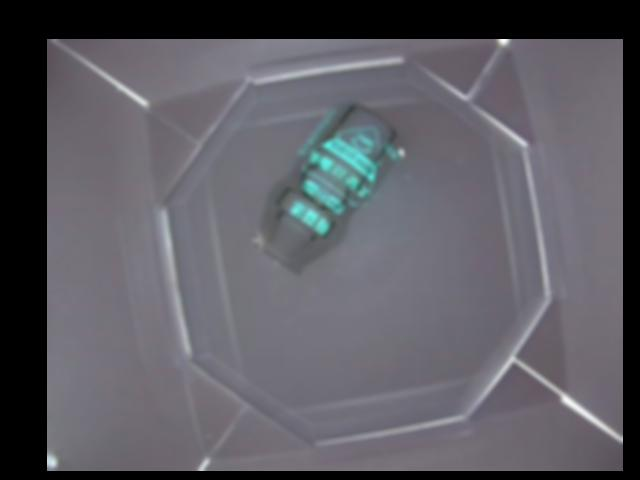Bottle: (248, 98, 408, 277)
